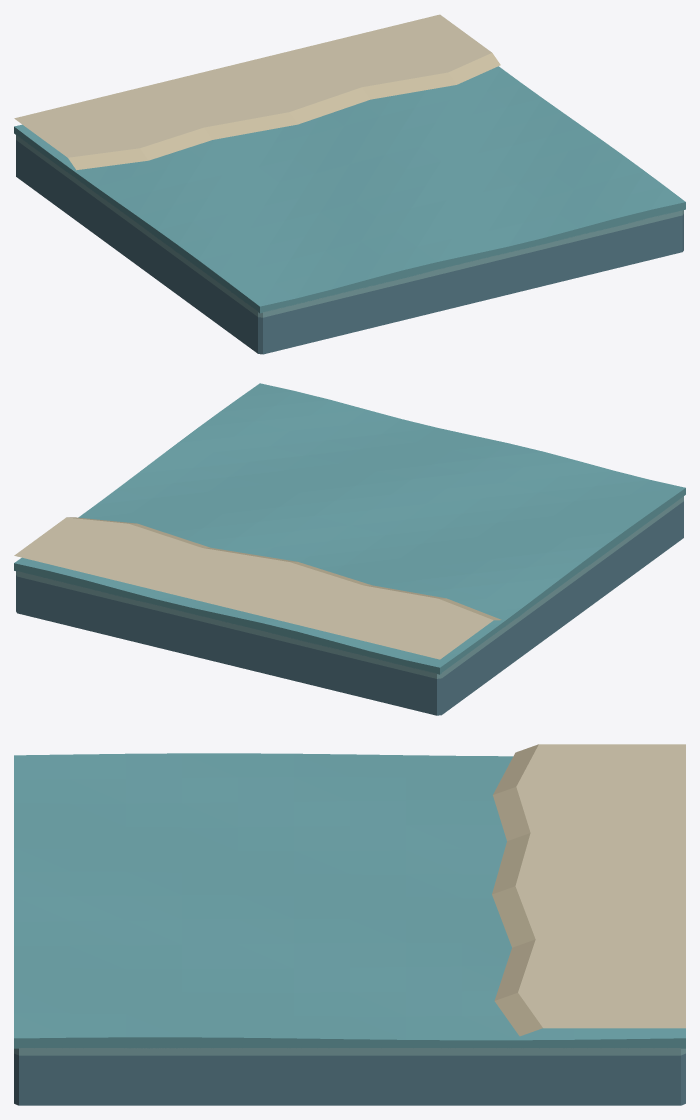
The picture shows the model from 3 angles, top to bottom: view 1: azimuth 30°, elevation 25°; view 2: azimuth 150°, elevation 25°; view 3: azimuth 270°, elevation 25°; orthographic projection. The views are drawn at different scales.
Parts seen in each view (by area): view 1: B10; view 2: B10; view 3: B10.
Part boxes in pixels (left/top/right/bottom): B10: left=14, top=14, right=685, bottom=354; B10: left=14, top=383, right=685, bottom=715; B10: left=14, top=744, right=685, bottom=1105.
Bounding box in the file's own units: 8 × 1.02 × 8.
